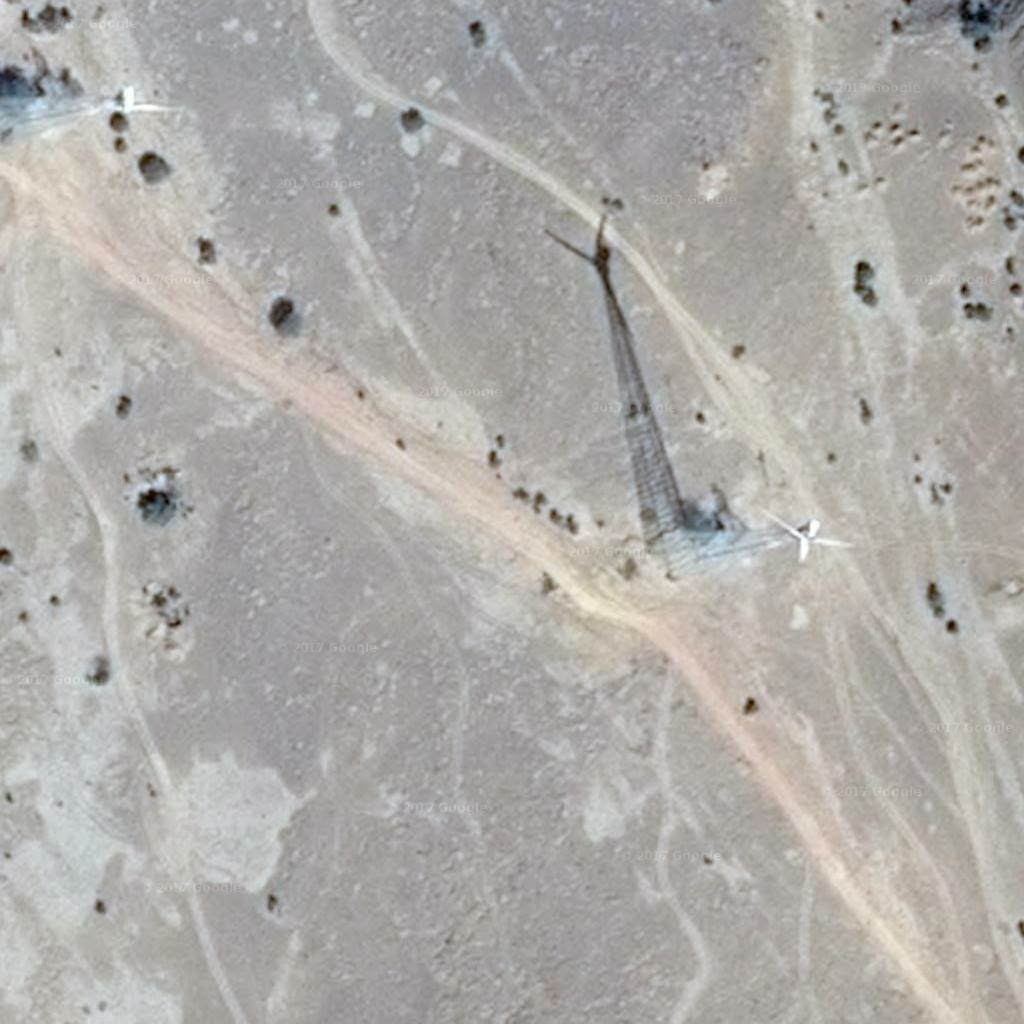Windmill: (542, 227, 721, 577)
